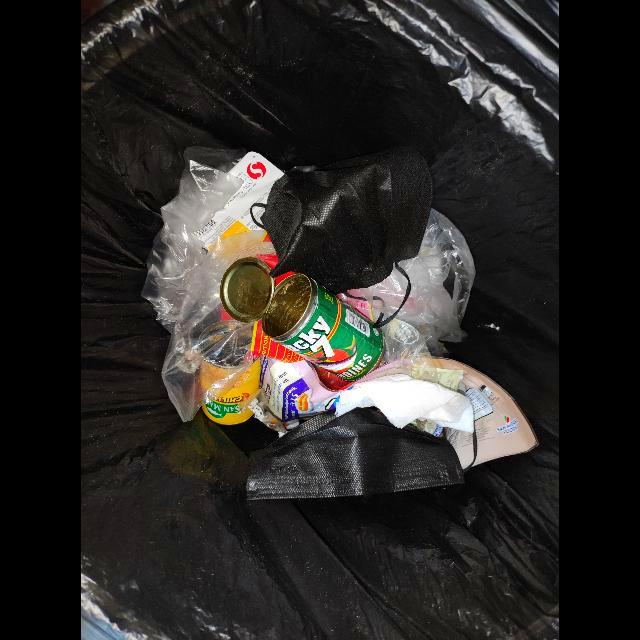aluminum: (219, 257, 385, 382), (200, 356, 262, 427)
food_wrapper: (356, 358, 539, 472), (193, 152, 285, 249)
paper: (335, 374, 475, 434)
plastic_bag: (141, 162, 277, 425), (338, 208, 476, 361)
